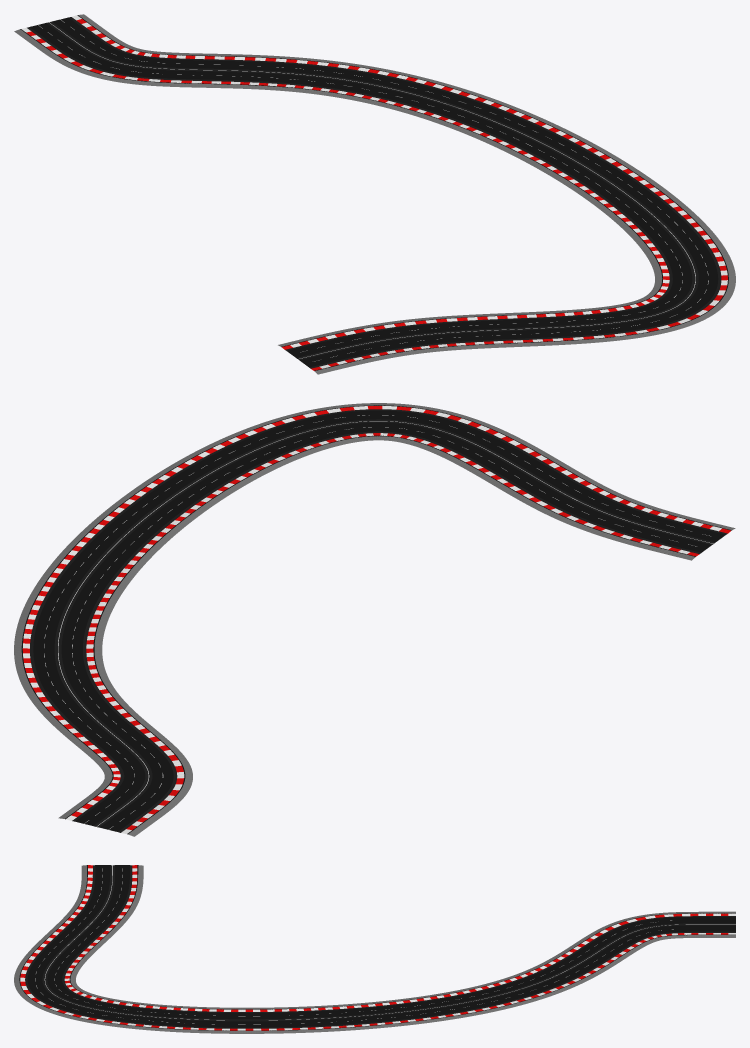
Rendered from S0.3l3h0-ass3.glb.
3 views of the same model, one above another, from view 1: azimuth 30°, elevation 25°; view 2: azimuth 150°, elevation 25°; view 3: azimuth 270°, elevation 25° (orthographic). The views are drawn at different scales.
Visible parts, largest first — view 1: Grid; view 2: Grid; view 3: Grid.
Boxes of the visible parts, left/top/right/bottom form: Grid: left=14, top=14, right=735, bottom=374; Grid: left=14, top=403, right=735, bottom=836; Grid: left=14, top=865, right=735, bottom=1033.
Bounding box in the file's own units: 161 × 0.31 × 292.
